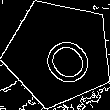O_NW: (25, 20, 92, 87)
